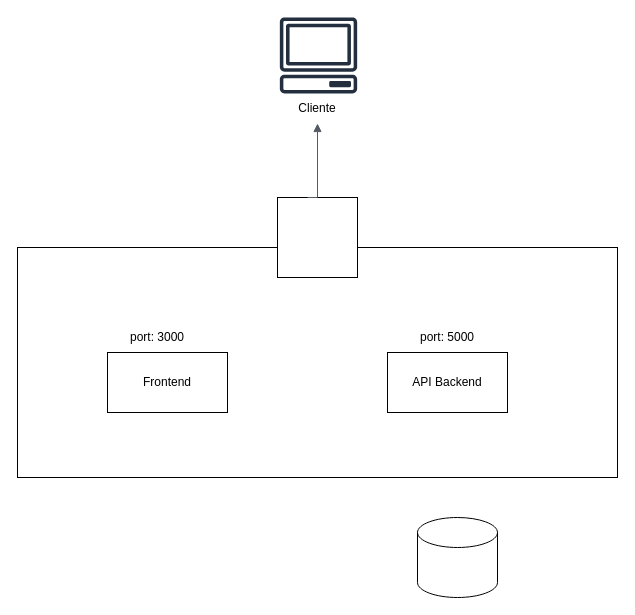
Image size: 635x615. Some labels were removed from this diagram. Here are the shapes that lost their labels. From the top down, the centre of each, then its label:
At (317,237): "Nginx".
At (457,557): "MySQL".
